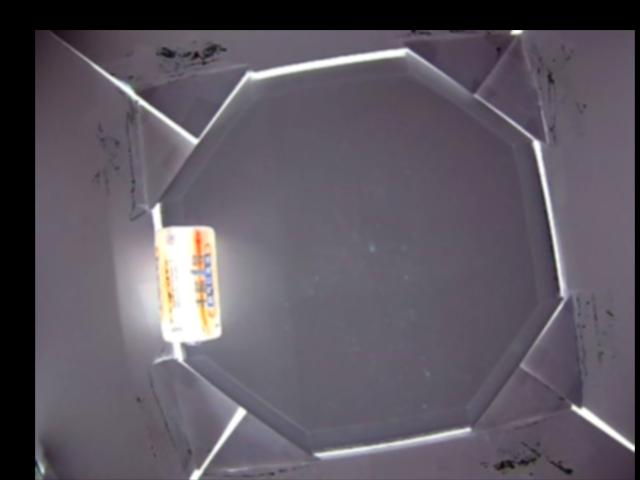Battery: (156, 225, 220, 346)
